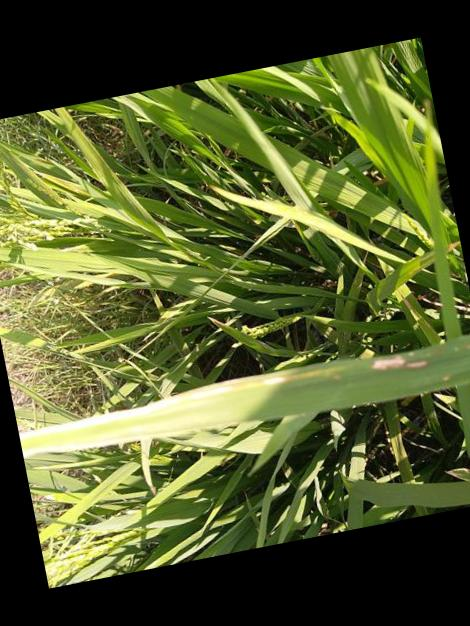Leaf Streak: (19, 387, 238, 457), (216, 345, 438, 390)
